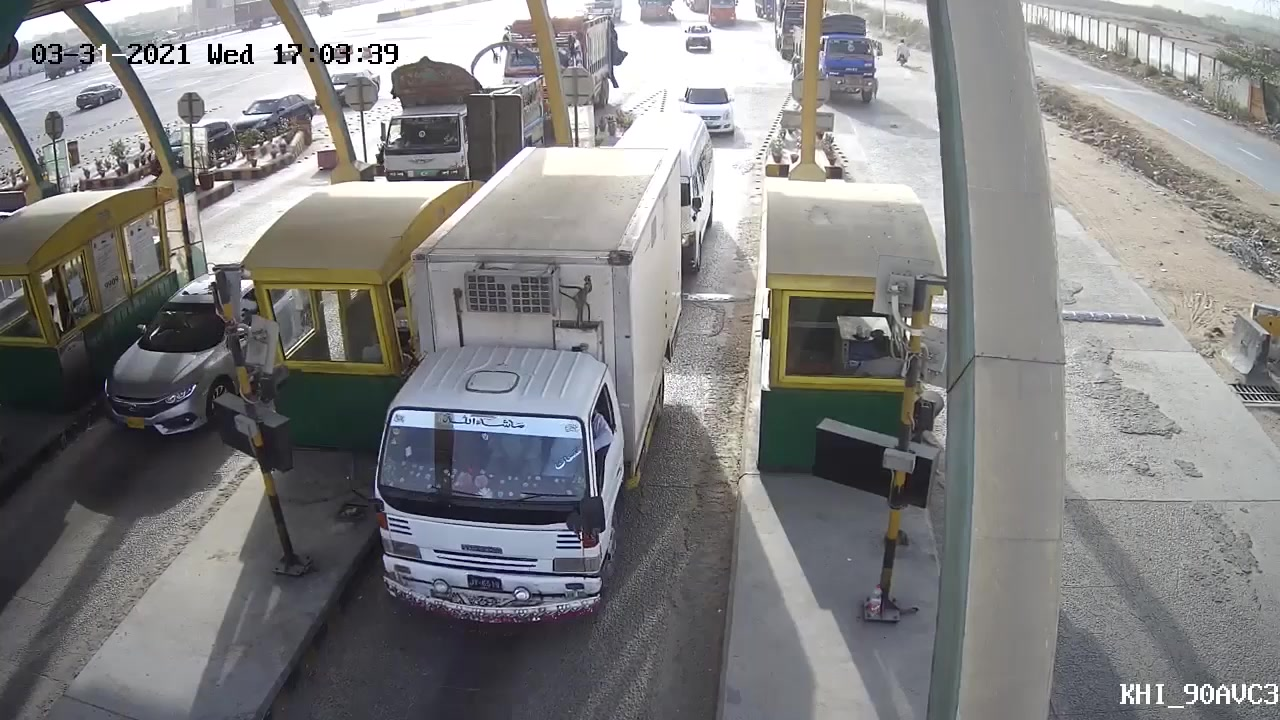F5: (360, 141, 700, 639)
